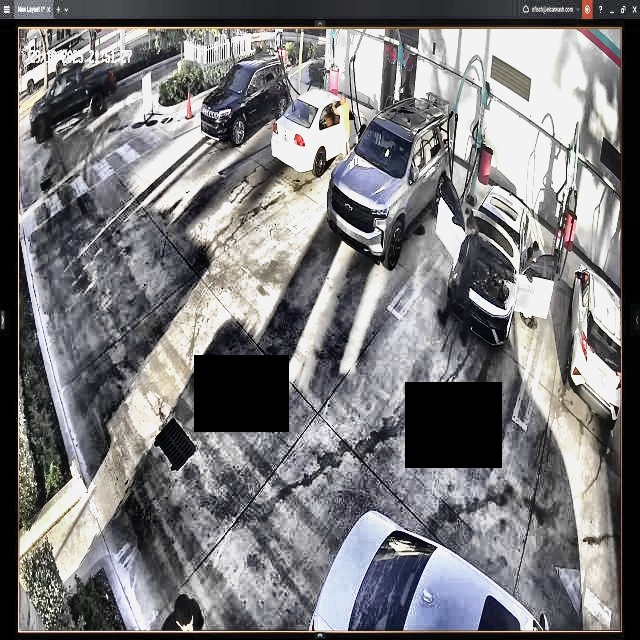Car: (329, 99, 452, 267), (440, 181, 553, 339), (272, 89, 367, 173)
